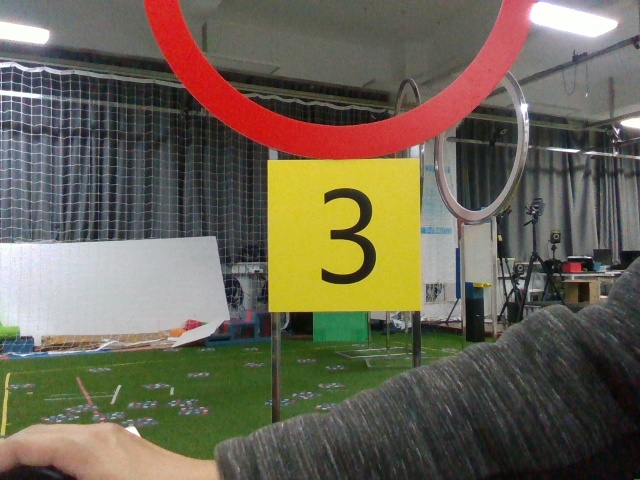target: (267, 156, 410, 317)
